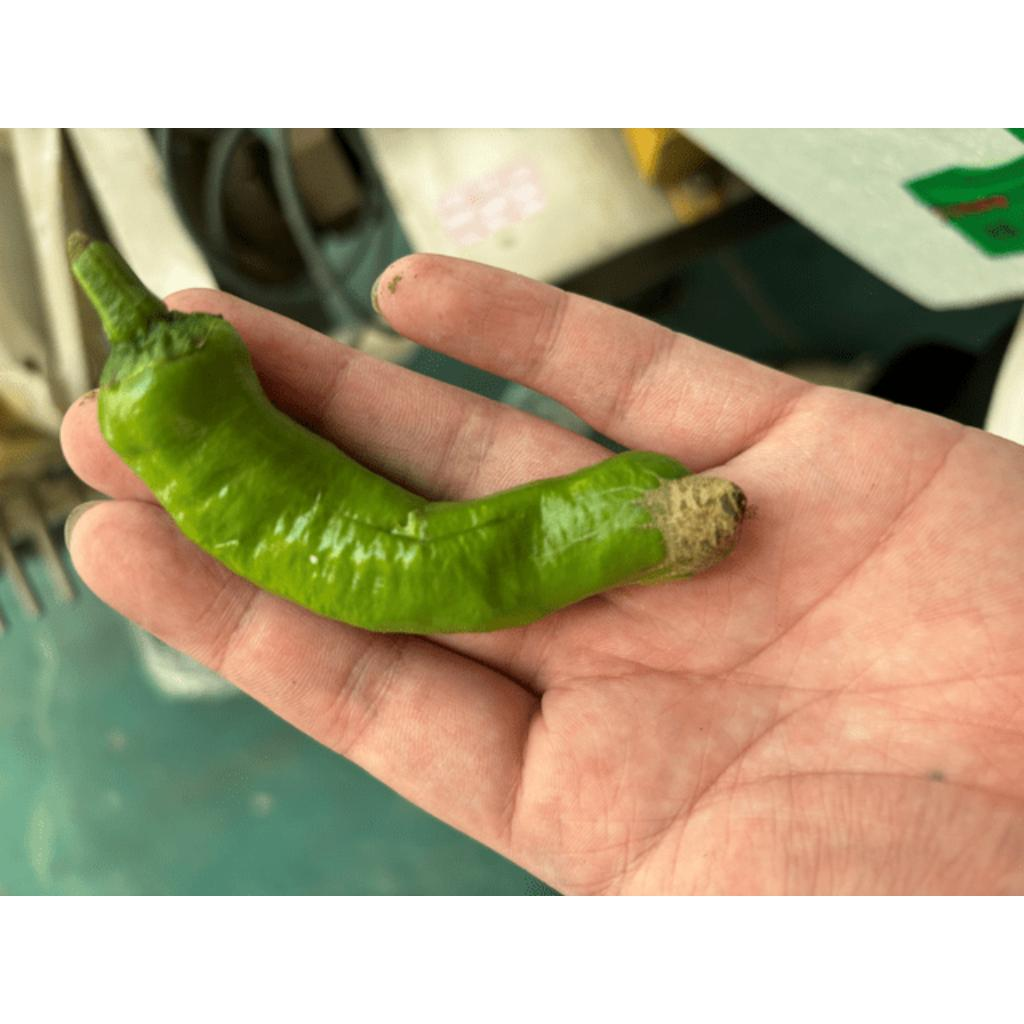chili: (88, 302, 753, 636)
